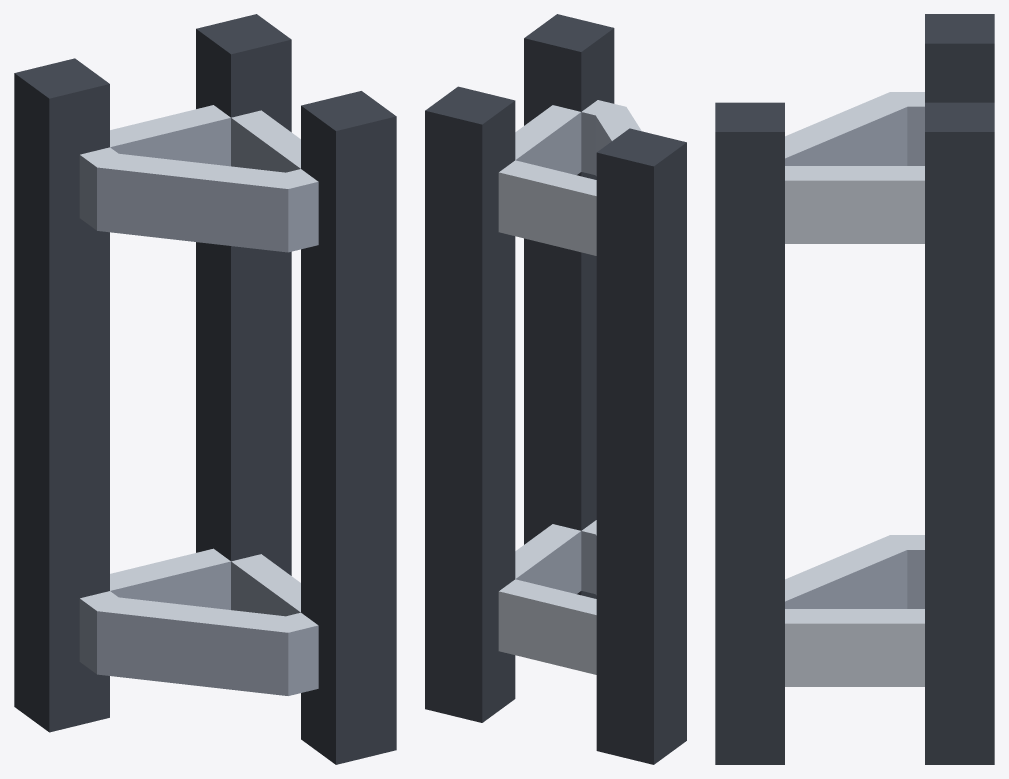
File: monorail_trackSupportCorner.dae
3 renders of one model, left to right at view 1: azimuth 30°, elevation 25°; view 2: azimuth 150°, elevation 25°; view 3: azimuth 270°, elevation 25°, orthographic. The views are drawn at different scales.
Visible parts, largest first — view 1: monorail_trackSupportCorner; view 2: monorail_trackSupportCorner; view 3: monorail_trackSupportCorner.
Part boxes in pixels (bbox=[...]): monorail_trackSupportCorner: bbox=[14, 14, 396, 764]; monorail_trackSupportCorner: bbox=[425, 14, 686, 764]; monorail_trackSupportCorner: bbox=[715, 14, 994, 764].
Bounding box in the file's own units: 0.2 × 0.5 × 0.2.
